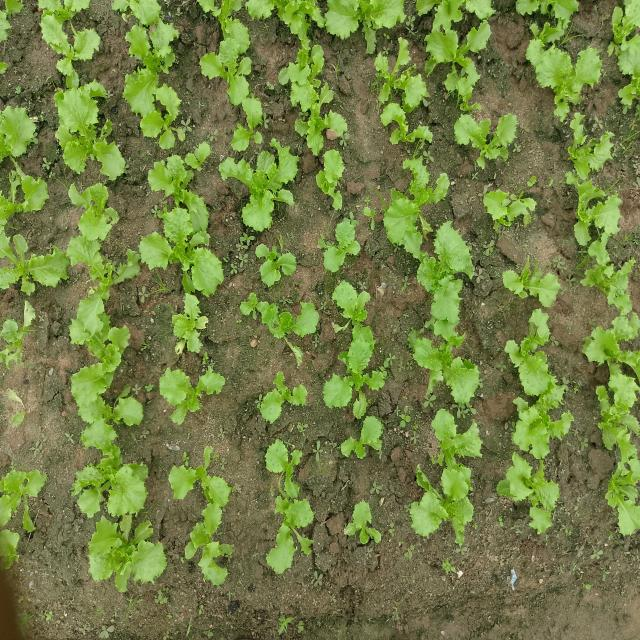Lettuce: (135, 210, 234, 296), (59, 365, 154, 448), (50, 93, 132, 180), (382, 152, 447, 255), (225, 144, 301, 232), (326, 315, 389, 418), (522, 44, 612, 116), (145, 152, 227, 228), (93, 514, 168, 596), (501, 451, 573, 536), (404, 326, 482, 402), (69, 447, 163, 510), (418, 220, 472, 328), (235, 296, 322, 362), (180, 494, 243, 582), (415, 23, 493, 94), (375, 59, 437, 144), (0, 225, 72, 298), (406, 466, 476, 541), (158, 361, 230, 428), (121, 9, 184, 82), (69, 306, 135, 374), (501, 395, 578, 451), (450, 110, 528, 165), (572, 184, 629, 259), (270, 494, 322, 576), (39, 14, 105, 78), (326, 0, 407, 50), (575, 255, 640, 316), (275, 46, 339, 107), (1, 455, 49, 536), (505, 306, 550, 392), (556, 121, 616, 185), (583, 310, 640, 376), (593, 371, 639, 449), (200, 40, 258, 100), (67, 182, 123, 244), (0, 162, 51, 230), (167, 449, 231, 503), (606, 445, 640, 544), (255, 2, 332, 45), (430, 408, 487, 465), (499, 250, 566, 297), (251, 368, 306, 424), (254, 446, 316, 495), (310, 150, 354, 212), (168, 300, 215, 356), (605, 0, 640, 75), (293, 114, 354, 157), (514, 0, 583, 38), (478, 188, 540, 230), (317, 221, 365, 274), (225, 89, 268, 148), (0, 103, 40, 165), (199, 0, 254, 44), (418, 0, 504, 28), (337, 414, 388, 461), (252, 241, 301, 288), (3, 308, 36, 376), (342, 501, 384, 548), (331, 286, 375, 329), (616, 78, 640, 115)
